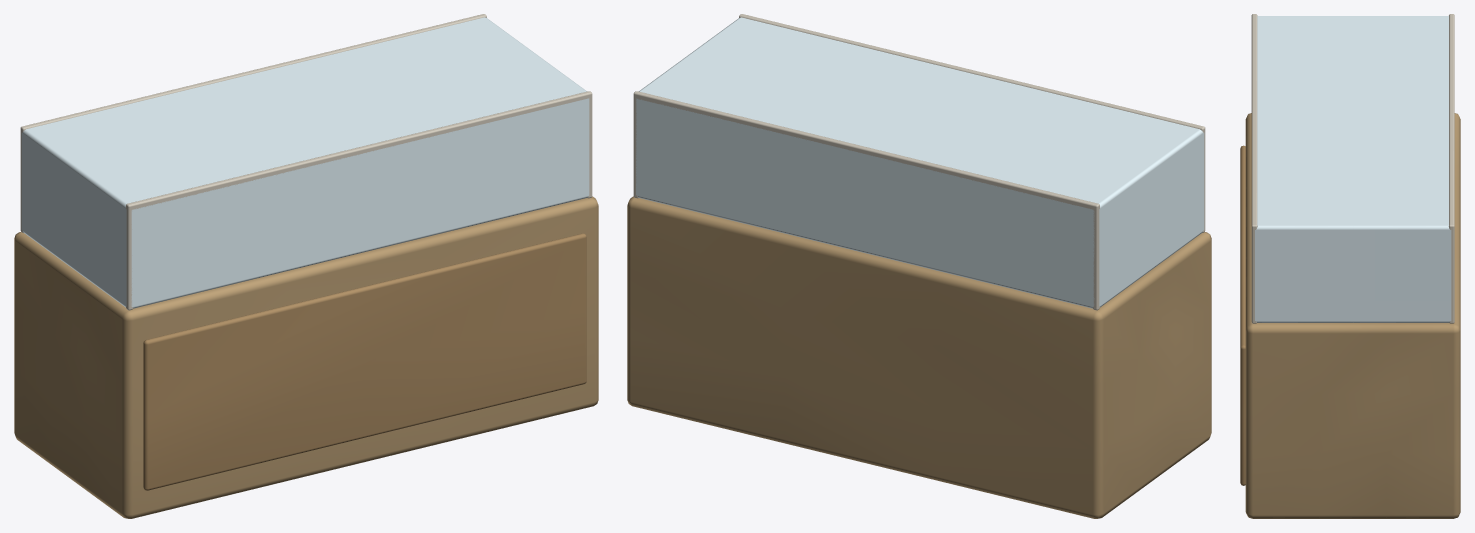
The model's file is furn_shell_display.glb.
The picture shows the model from 3 angles, left to right: view 1: azimuth 30°, elevation 25°; view 2: azimuth 150°, elevation 25°; view 3: azimuth 270°, elevation 25°; orthographic projection. The views are drawn at different scales.
Visible parts, largest first — view 1: furn_shell_display_main, furn_shell_display_clear; view 2: furn_shell_display_main, furn_shell_display_clear; view 3: furn_shell_display_clear, furn_shell_display_main.
Boxes of the visible parts, box(x1,y1,x2,y2) form: furn_shell_display_main: box(14, 14, 598, 518); furn_shell_display_clear: box(21, 17, 589, 308); furn_shell_display_main: box(627, 14, 1211, 518); furn_shell_display_clear: box(636, 17, 1204, 308); furn_shell_display_clear: box(1255, 16, 1451, 322); furn_shell_display_main: box(1240, 14, 1460, 518).
Bounding box in the file's own units: 1.72 × 1.09 × 0.738.
